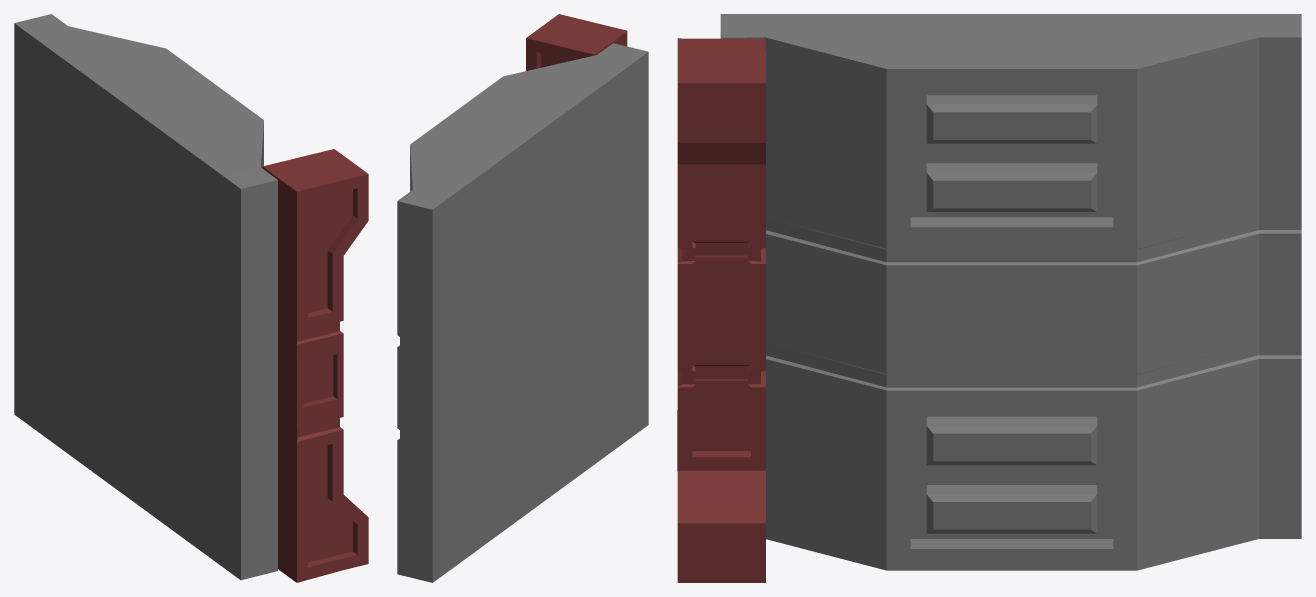
The model's file is wall_low.FBX.
The picture shows the model from 3 angles, left to right: view 1: azimuth 30°, elevation 25°; view 2: azimuth 150°, elevation 25°; view 3: azimuth 270°, elevation 25°; orthographic projection. The views are drawn at different scales.
Parts seen in each view (by area): view 1: Door_low, Cube_low; view 2: Door_low, Cube_low; view 3: Door_low, Cube_low.
Boxes of the visible parts, x1,y1,x2,y2 form: Door_low: [14, 14, 277, 580]; Cube_low: [262, 149, 368, 582]; Door_low: [397, 43, 648, 582]; Cube_low: [526, 14, 627, 70]; Door_low: [720, 14, 1301, 570]; Cube_low: [677, 38, 765, 582].
Size of the model in its own units: 13.14 by 44.27 by 49.92.
